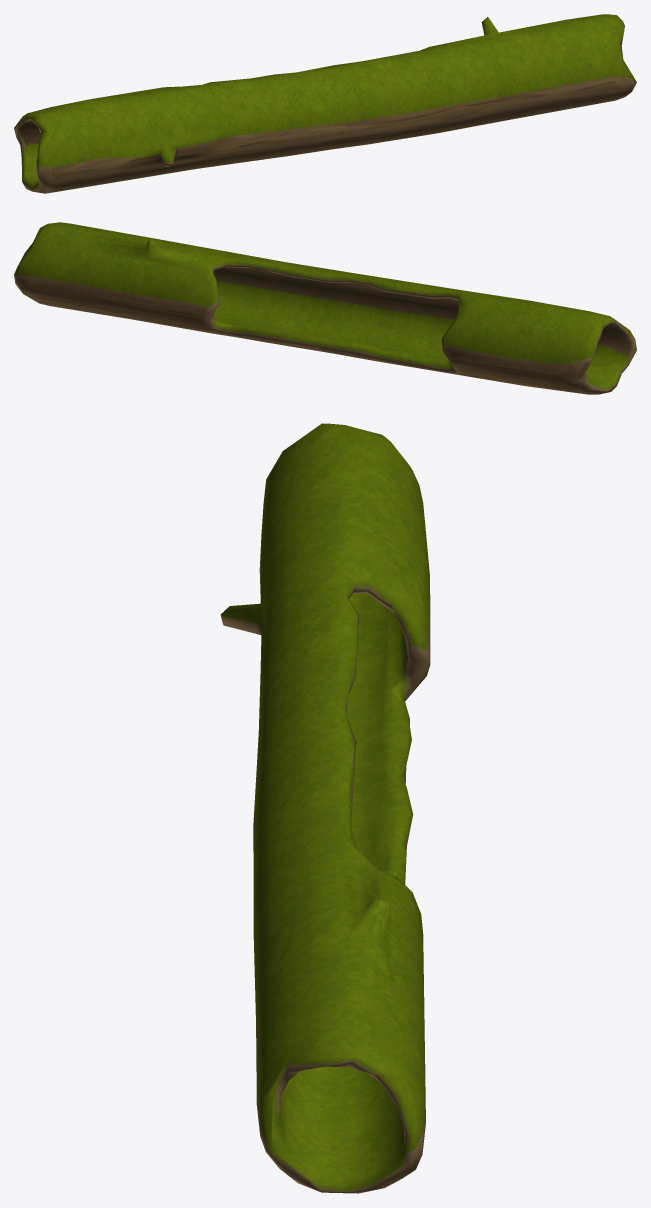
Rendered from SM_Log02_V01.fbx.
3 renders of one model, top to bottom at view 1: azimuth 30°, elevation 25°; view 2: azimuth 150°, elevation 25°; view 3: azimuth 270°, elevation 25°, orthographic. The views are drawn at different scales.
Visible parts, largest first — view 1: SM_Log02; view 2: SM_Log02; view 3: SM_Log02.
Boxes of the visible parts, x1,y1,x2,y2 form: SM_Log02: [14, 14, 636, 193]; SM_Log02: [14, 222, 636, 394]; SM_Log02: [220, 423, 430, 1193].
Bounding box in the file's own units: 1219 × 230 × 188.
1 material, 1 textured.
